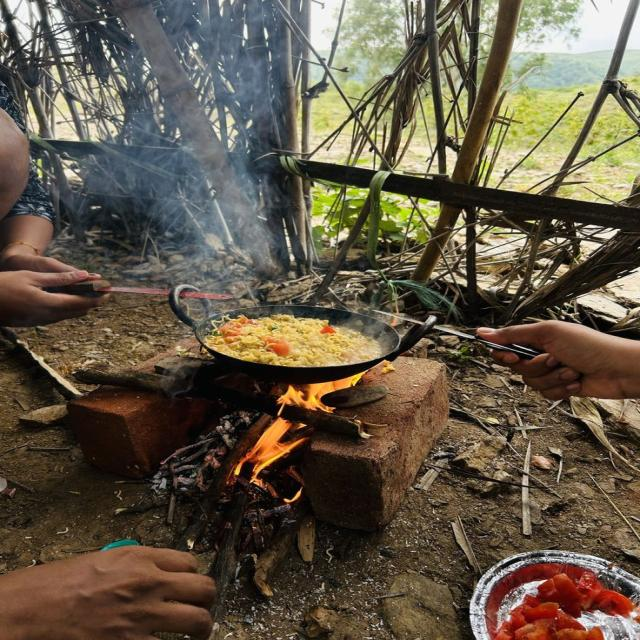fire: (231, 418, 306, 484), (275, 370, 368, 413)
